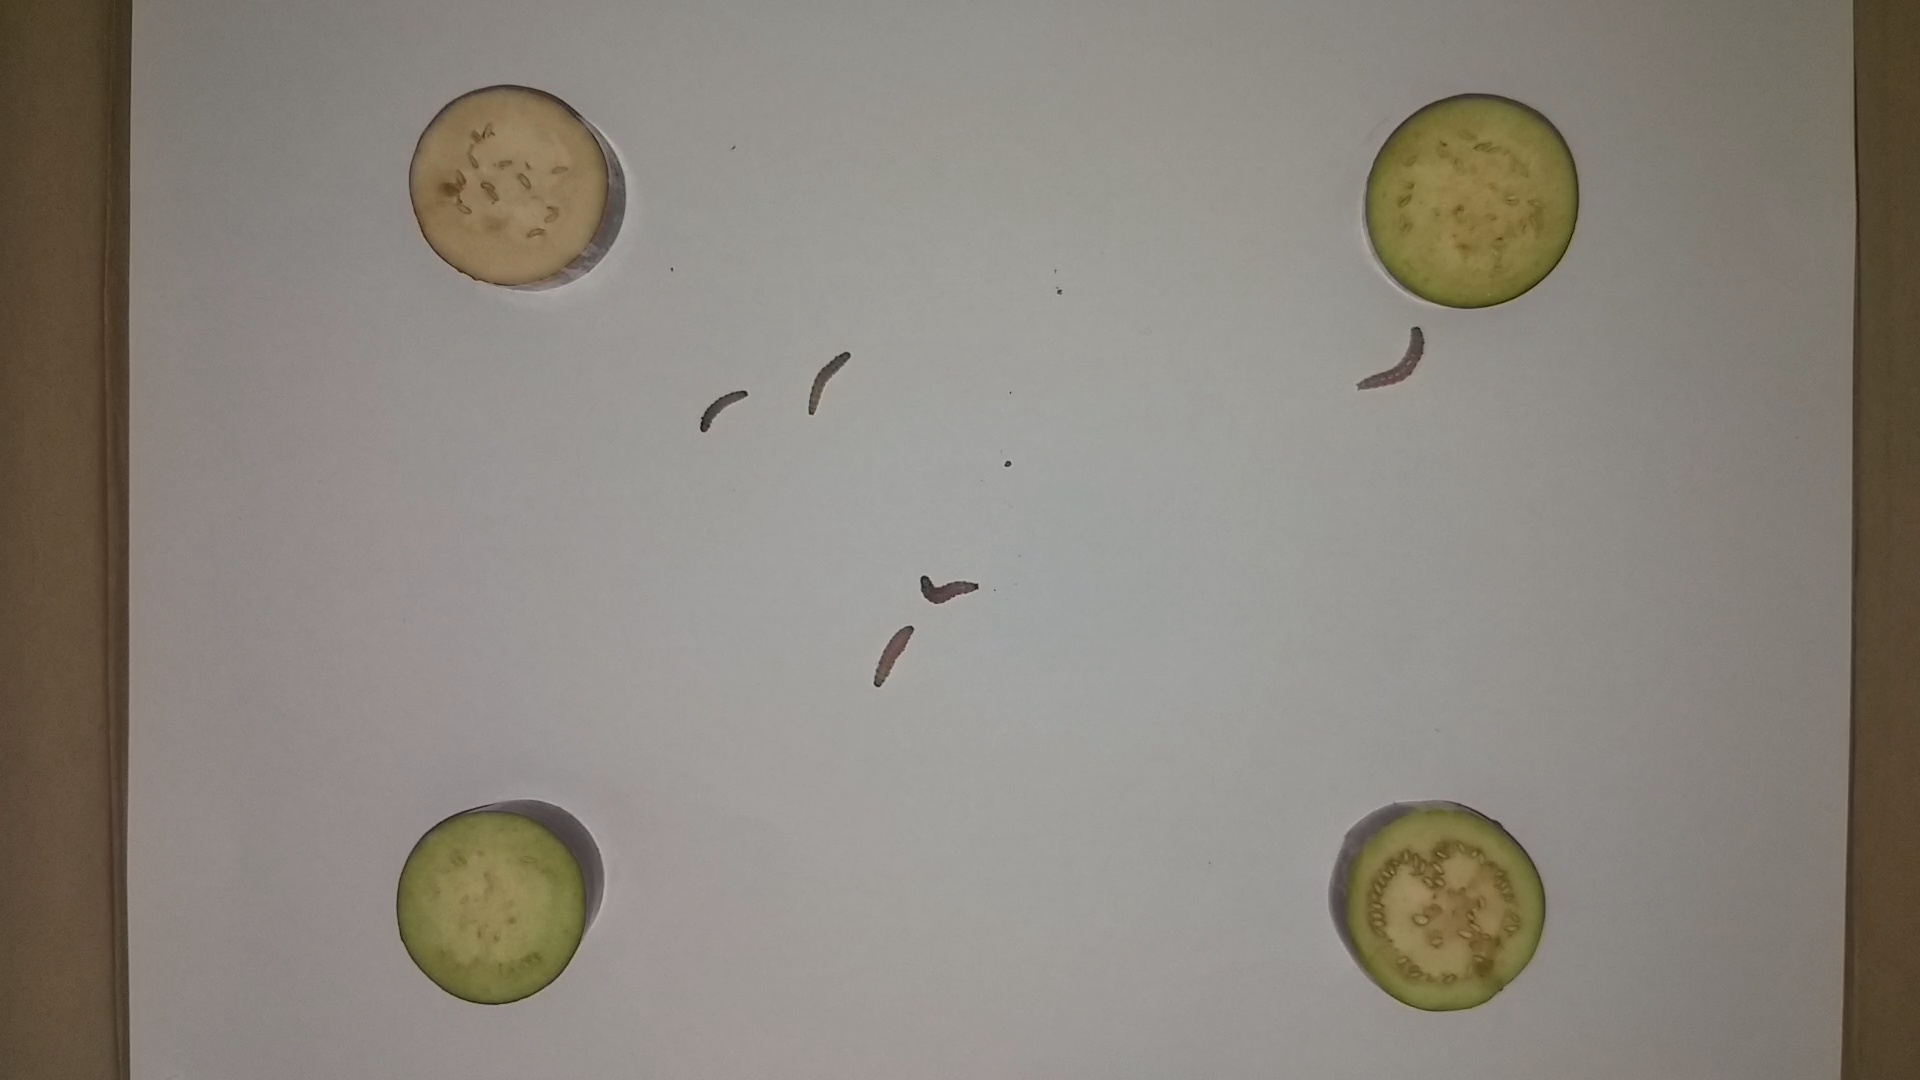efsb: (1353, 319, 1425, 394), (804, 345, 853, 419), (872, 618, 916, 691), (696, 386, 752, 434), (913, 571, 982, 607)
eggplant: (1357, 86, 1596, 316), (1324, 791, 1557, 1017), (406, 82, 633, 299), (388, 794, 616, 1007)
